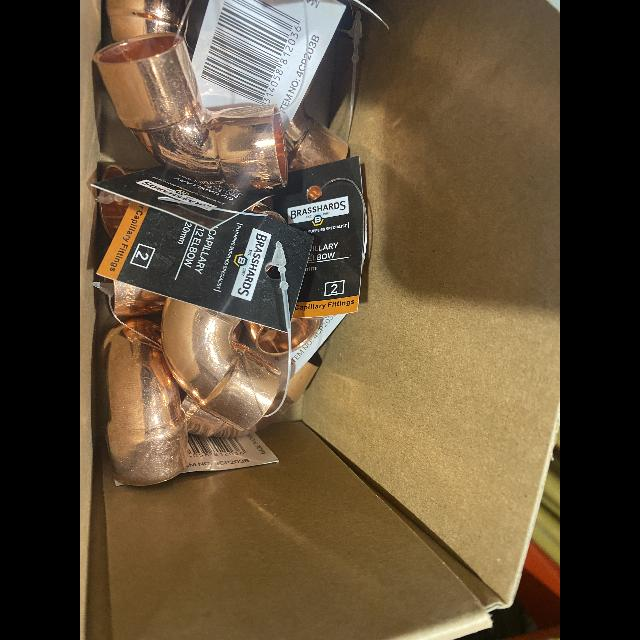Copper: (93, 32, 287, 191), (159, 297, 281, 433), (93, 322, 189, 486), (182, 363, 319, 439), (283, 103, 349, 171), (103, 0, 182, 41), (113, 280, 165, 317), (244, 320, 288, 355), (101, 201, 131, 238), (125, 317, 160, 344), (294, 319, 319, 351), (249, 203, 287, 223), (102, 164, 143, 180), (265, 392, 284, 413)
